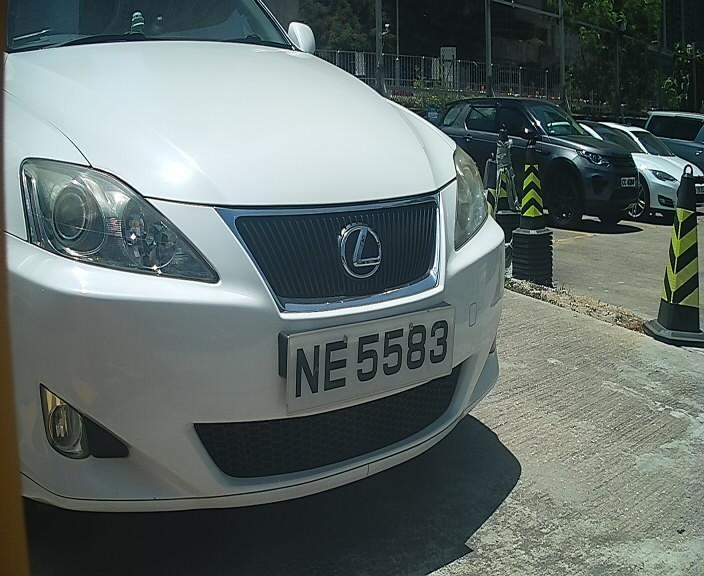privatecar: (4, 2, 516, 536)
